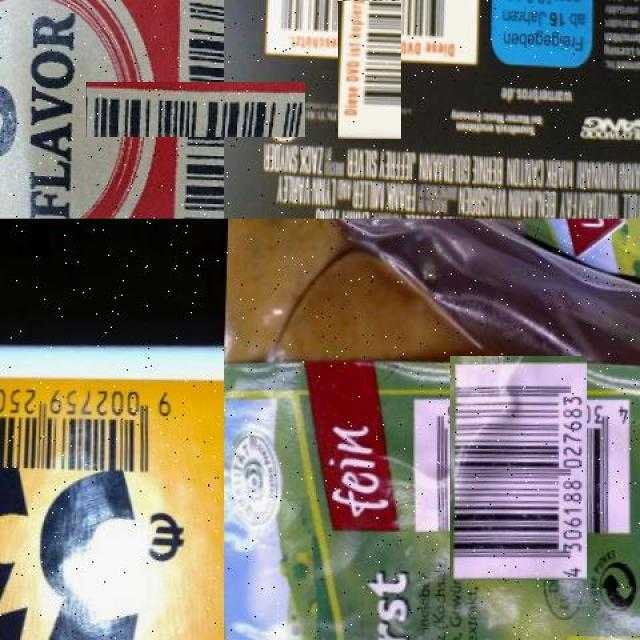Barcode: (428, 378, 609, 559), (0, 374, 177, 482), (127, 41, 265, 178), (299, 0, 439, 102)
